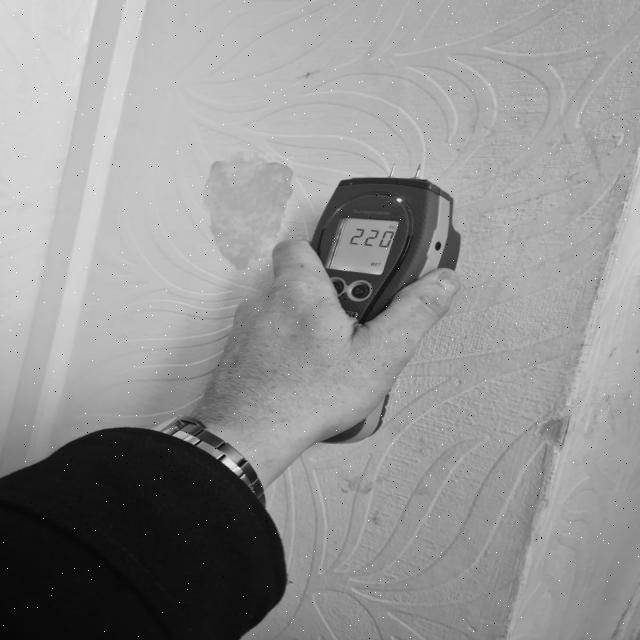stain marks: (156, 117, 350, 314), (420, 70, 624, 224)
